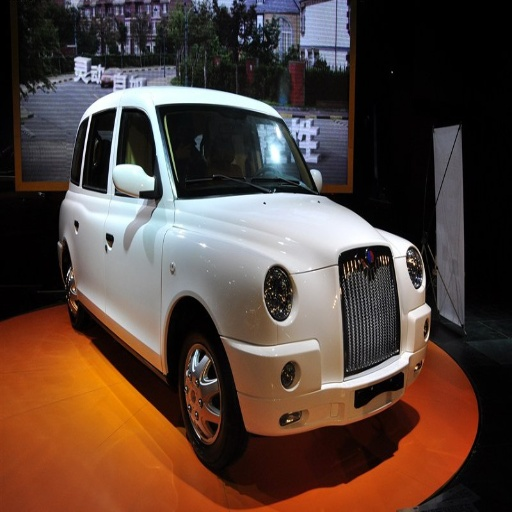front_bumper: (223, 245, 429, 429)
front_right_door: (97, 104, 171, 351)
front_right_light: (264, 268, 295, 319)
hood: (196, 192, 384, 270)
